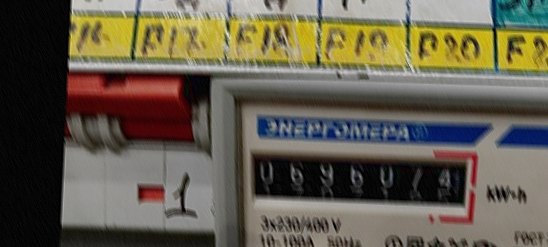0: (253, 157, 273, 182), (375, 160, 392, 186)
4: (433, 163, 450, 186)
5: (433, 188, 450, 204)
6: (346, 159, 364, 186), (285, 158, 303, 183)
7: (405, 163, 423, 189)
9: (315, 159, 332, 185)
screen: (236, 137, 479, 217)
